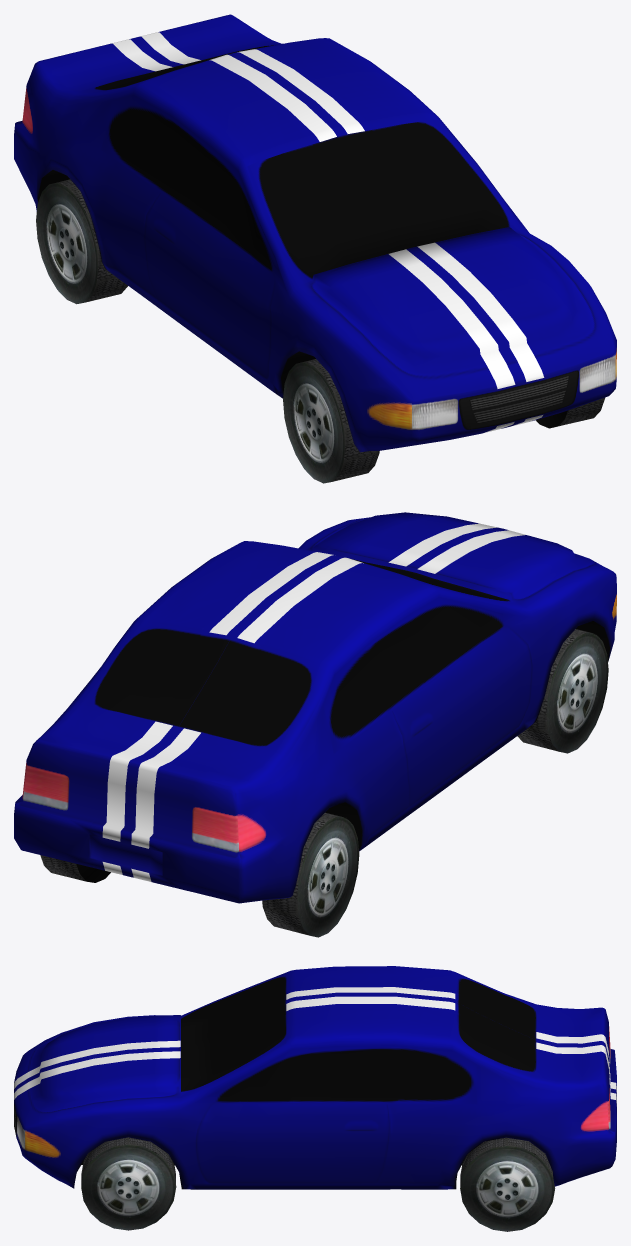
Rendered from auto.obj.
The picture shows the model from 3 angles, top to bottom: view 1: azimuth 30°, elevation 25°; view 2: azimuth 150°, elevation 25°; view 3: azimuth 270°, elevation 25°; orthographic projection. The views are drawn at different scales.
Parts seen in each view (by area): view 1: Car_Blue_Cube.001, TireFD_Cylinder, TireRD_Cylinder.001, TireFP_Cylinder.002; view 2: Car_Blue_Cube.001, TireRD_Cylinder.001, TireFD_Cylinder, TireRP_Cylinder.003; view 3: Car_Blue_Cube.001, TireRP_Cylinder.003, TireFP_Cylinder.002.
Boxes of the visible parts, left/top/right/bottom form: Car_Blue_Cube.001: left=14, top=14, right=616, bottom=452; TireFD_Cylinder: left=283, top=359, right=379, bottom=483; TireRD_Cylinder.001: left=36, top=179, right=127, bottom=304; TireFP_Cylinder.002: left=536, top=397, right=605, bottom=428; Car_Blue_Cube.001: left=14, top=512, right=616, bottom=903; TireRD_Cylinder.001: left=262, top=812, right=359, bottom=937; TireFD_Cylinder: left=517, top=629, right=608, bottom=753; TireRP_Cylinder.003: left=40, top=855, right=110, bottom=882; Car_Blue_Cube.001: left=14, top=966, right=616, bottom=1189; TireRP_Cylinder.003: left=460, top=1137, right=555, bottom=1231; TireFP_Cylinder.002: left=81, top=1137, right=176, bottom=1230.
Size of the model in its own units: 1.87 by 1.67 by 4.8.
Materials: 9 (9 with a texture image).
